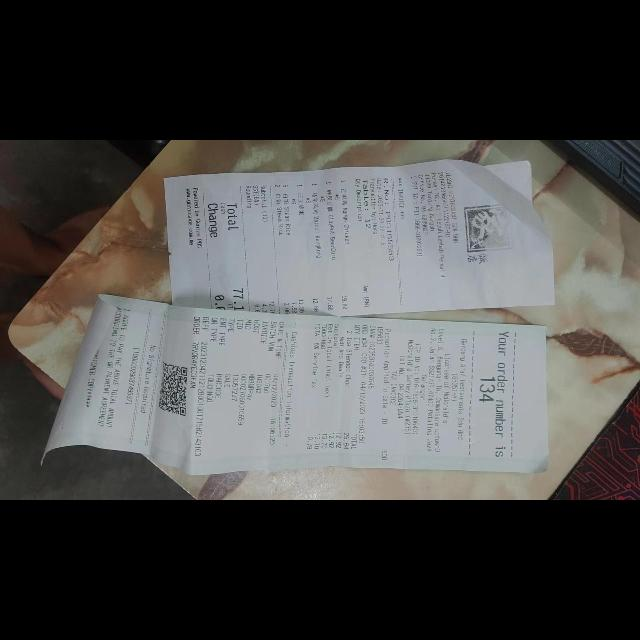papel: (43, 160, 561, 472)
